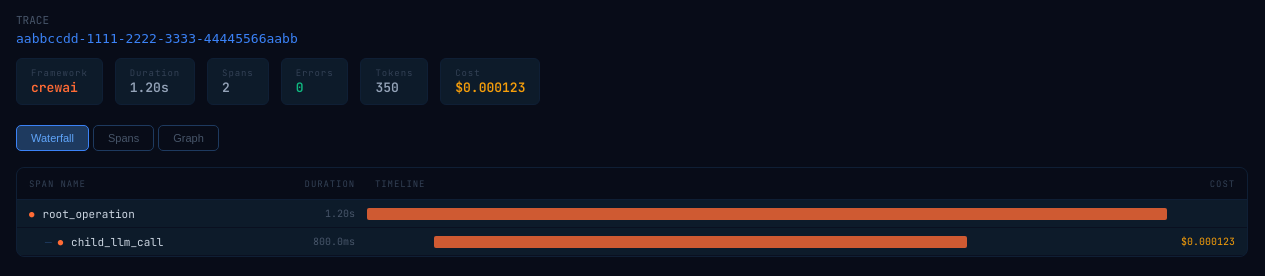
TraceDetail › spans table tab renders span columns when clicked
Click the button "Spans" at (124, 138), box [93,125,154,151]
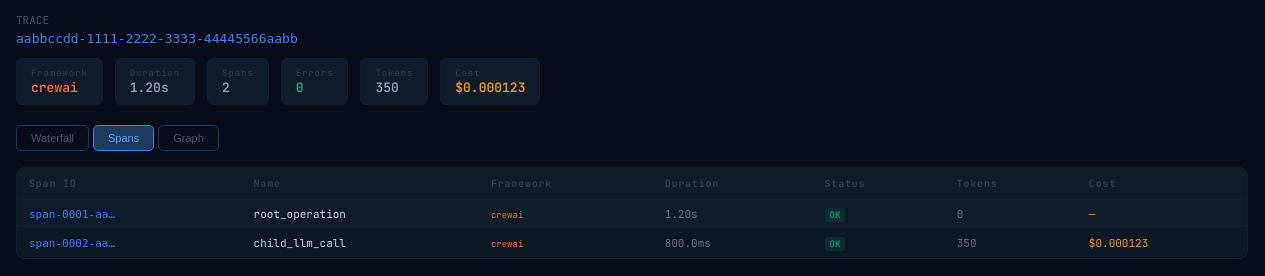
expect the column heading "Name" is shown: met, box [242,168,479,200]
expect the column heading "Span ID" is shown: met, box [17,168,242,200]
